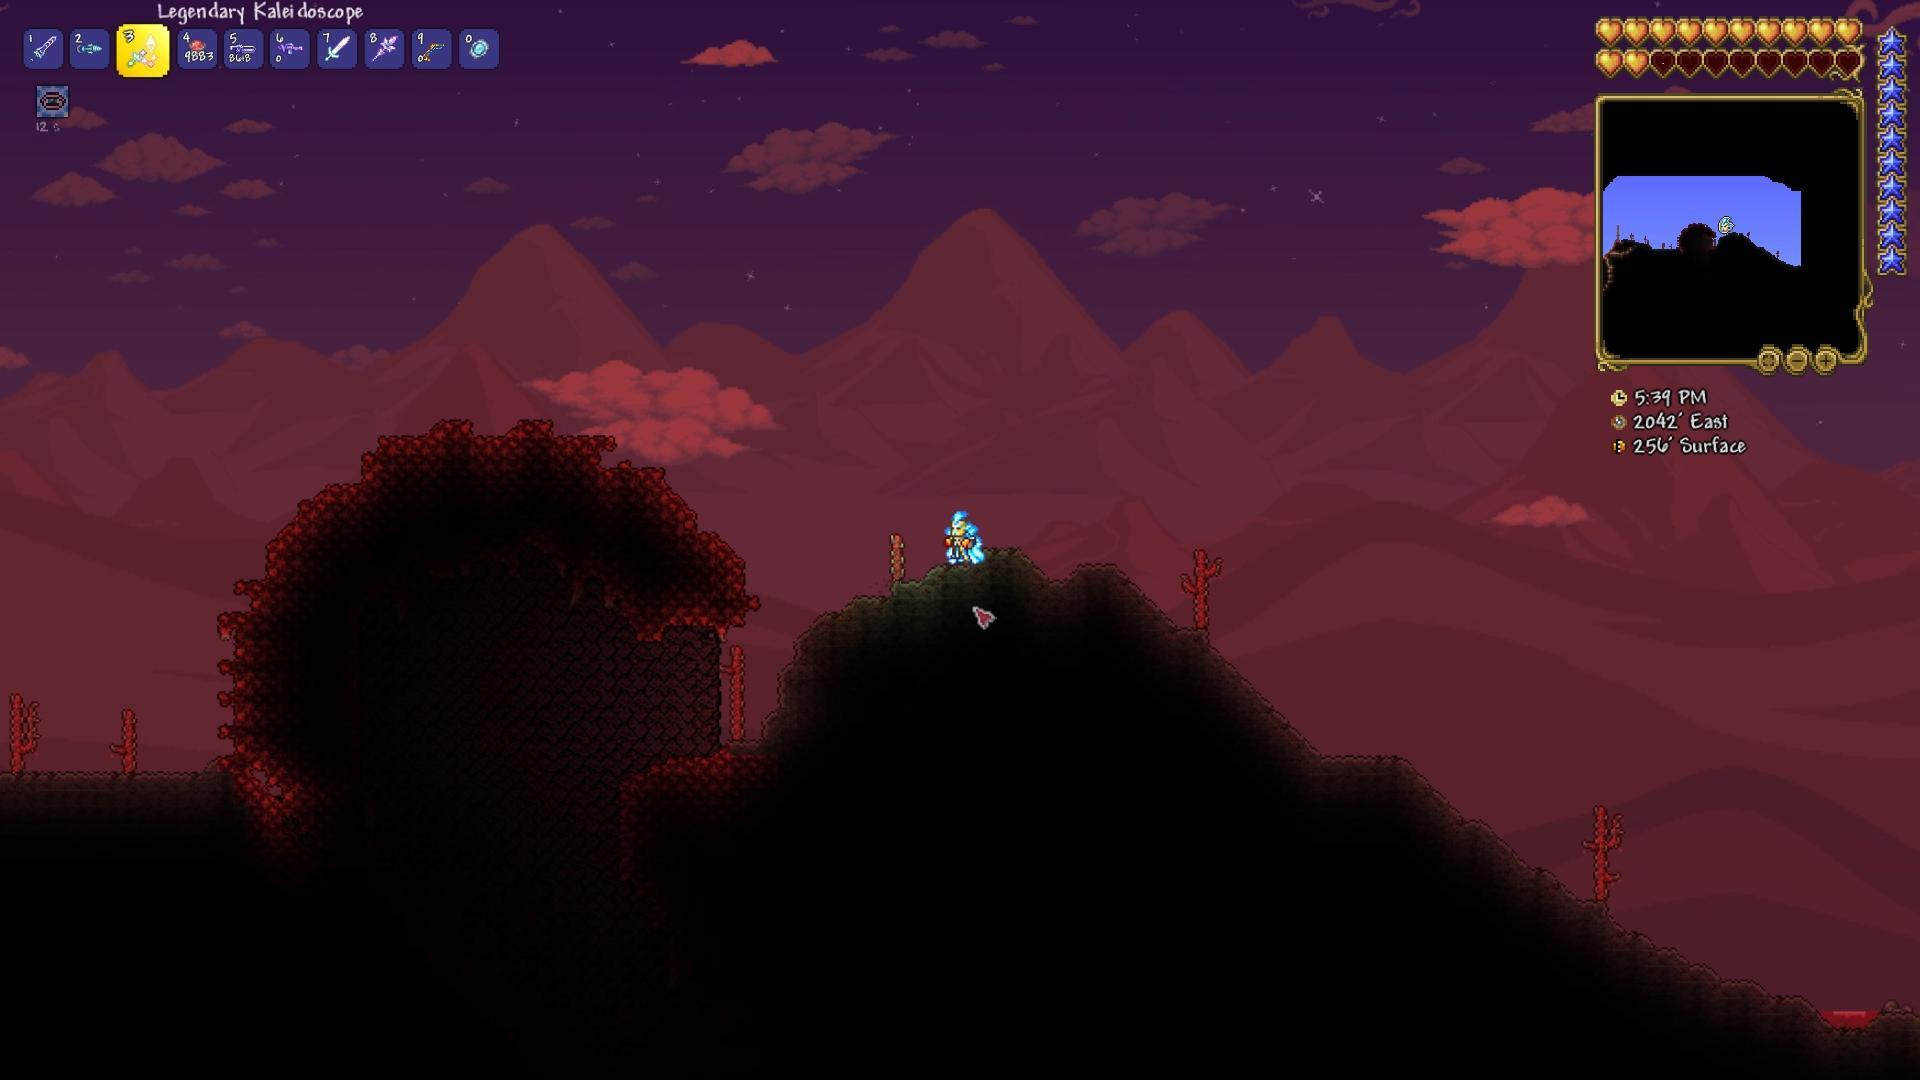crimstone: (671, 491, 703, 541), (629, 463, 669, 502), (585, 431, 621, 472), (506, 415, 549, 450), (212, 728, 247, 757), (434, 419, 473, 444), (381, 440, 431, 458), (233, 583, 270, 605), (465, 438, 498, 462), (220, 617, 252, 641), (703, 524, 725, 556), (324, 485, 365, 502), (725, 555, 745, 588), (269, 541, 294, 566), (553, 435, 576, 460), (363, 455, 385, 480), (222, 666, 247, 683), (744, 596, 764, 617)
mirror: (468, 37, 492, 62)
